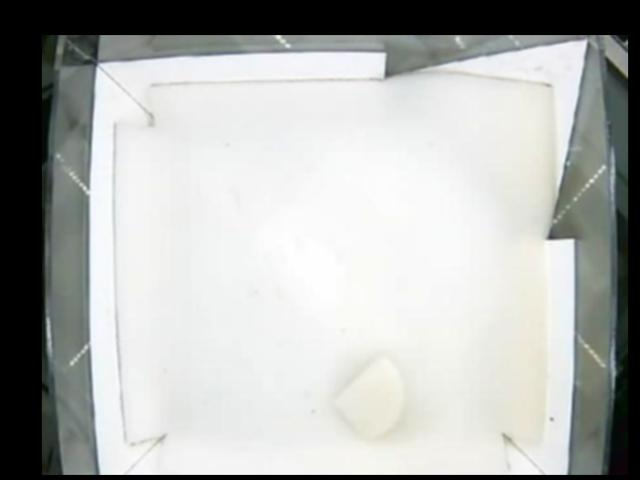Mooli: (332, 355, 405, 441)
